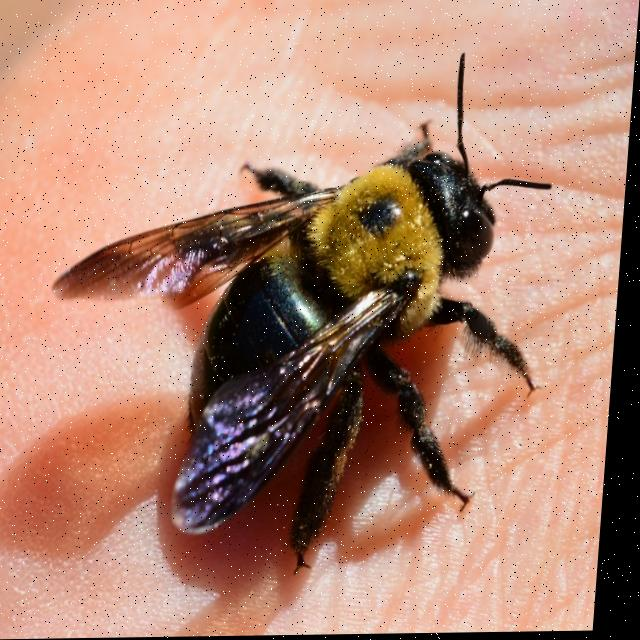Xylocopa: (76, 60, 588, 609)
